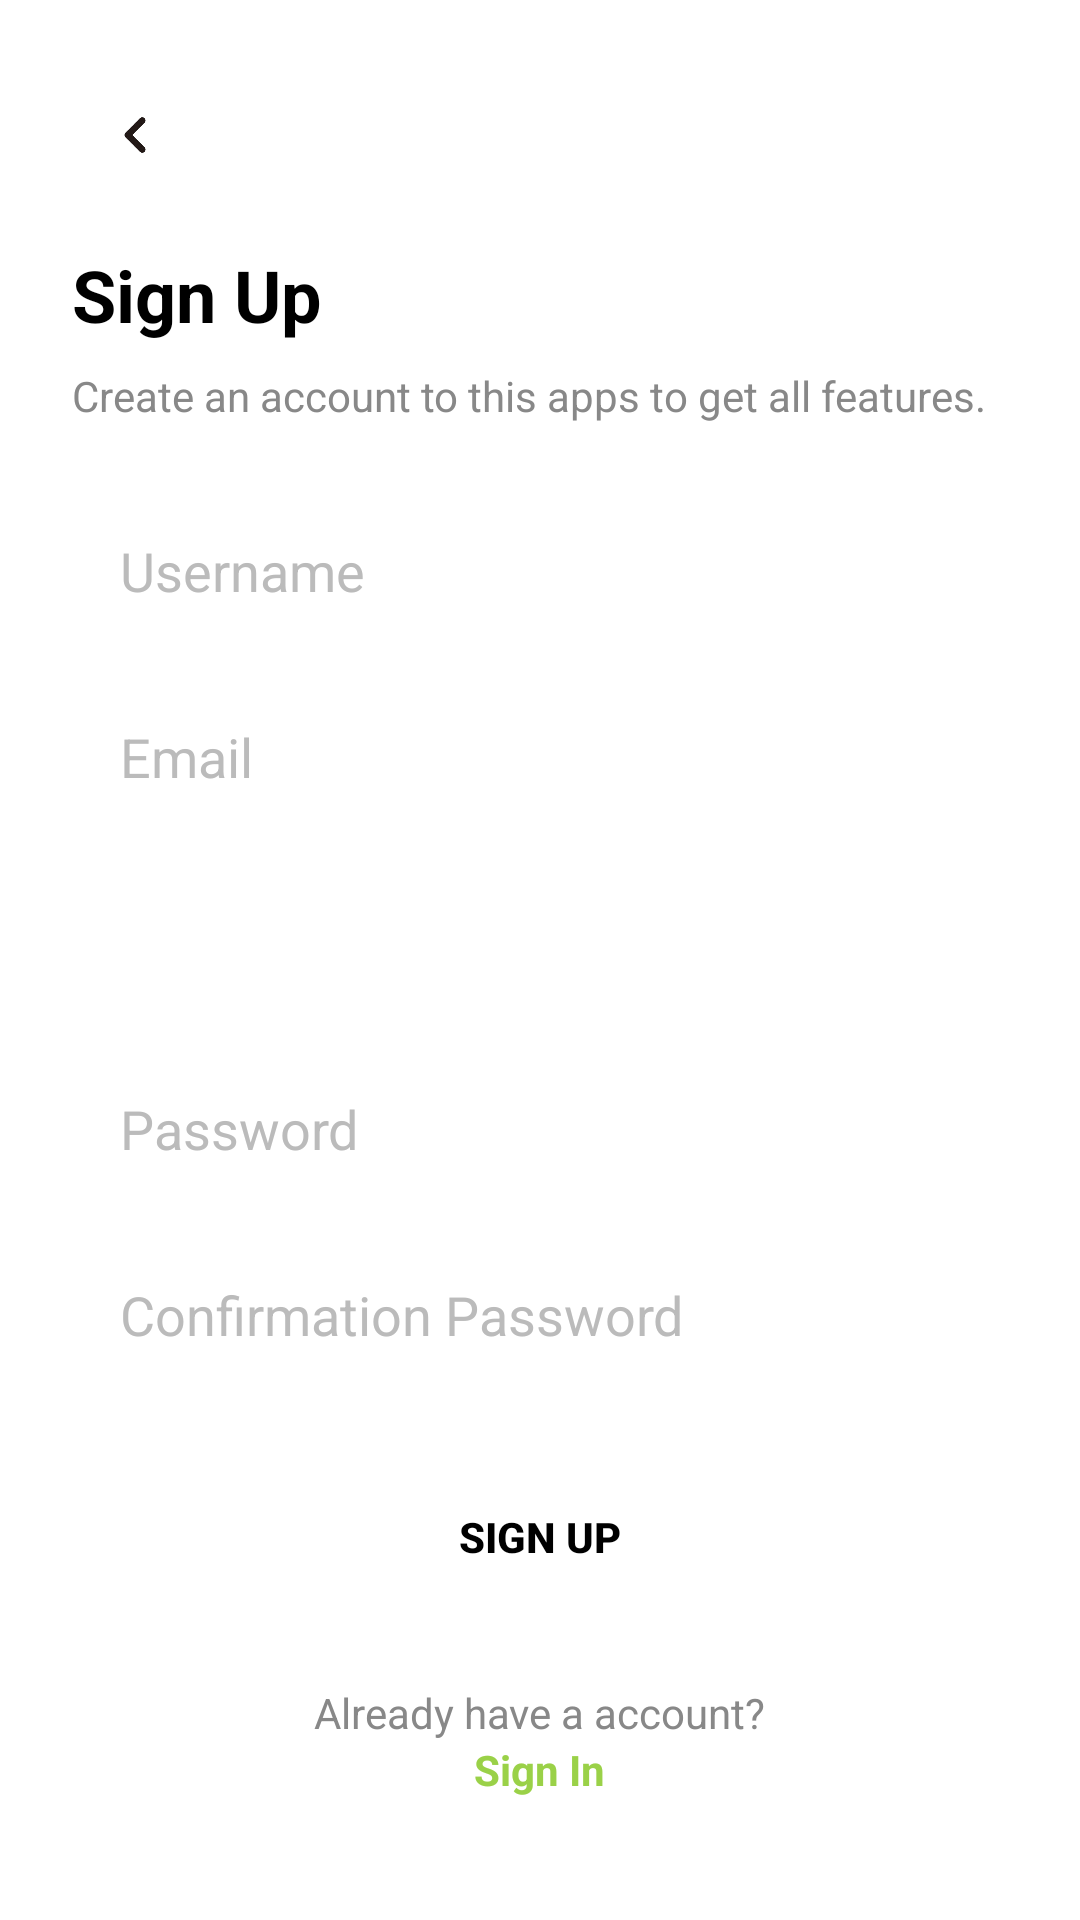

Icons on this 1080px×1920px Android screen, each with its box as (x1, y1, x2, y2):
Back: (124, 117, 146, 153)
